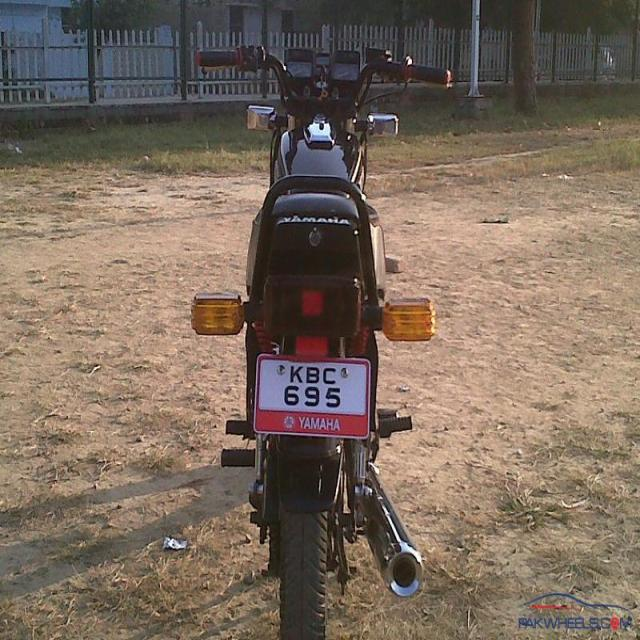number plate: (252, 351, 371, 438)
